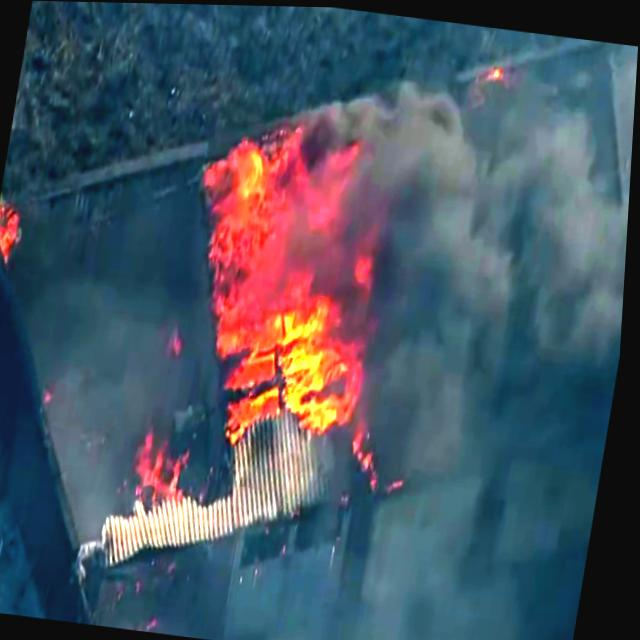fire: (196, 134, 392, 417)
smoke: (428, 95, 636, 496)
